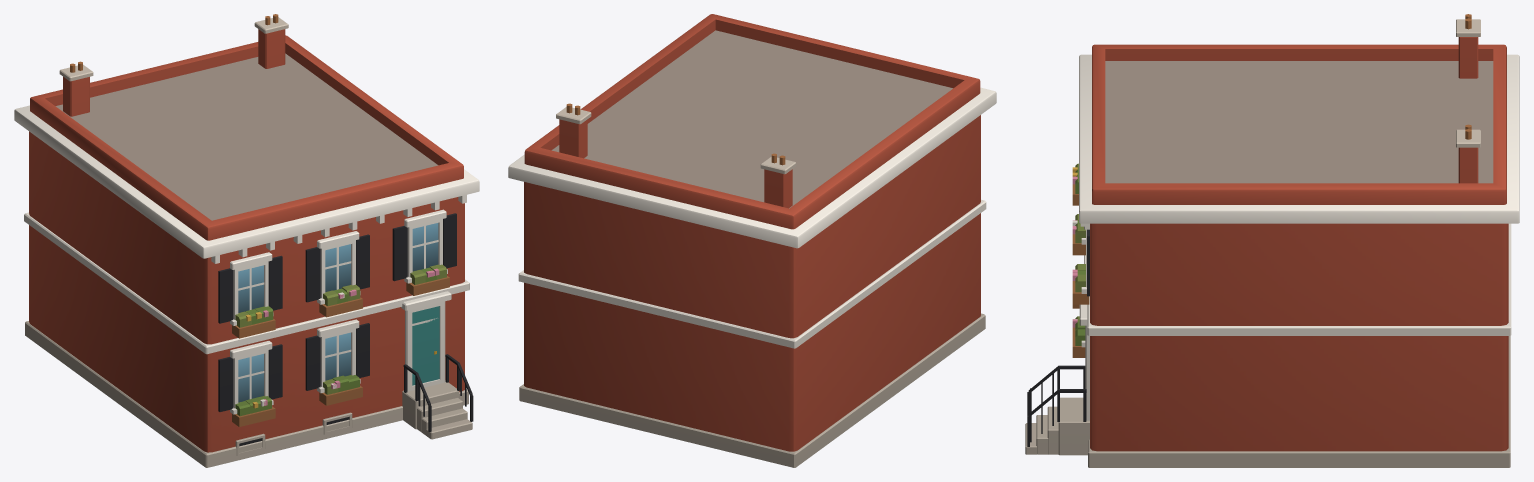
The model's file is beacon_ne1.glb.
3 renders of one model, left to right at view 1: azimuth 30°, elevation 25°; view 2: azimuth 150°, elevation 25°; view 3: azimuth 270°, elevation 25°, orthographic. The views are drawn at different scales.
Visible parts, largest first — view 1: beacon_ne1; view 2: beacon_ne1; view 3: beacon_ne1.
Part boxes in pixels (left/top/right/bottom): beacon_ne1: left=14, top=14, right=479, bottom=467; beacon_ne1: left=508, top=14, right=996, bottom=467; beacon_ne1: left=1025, top=14, right=1519, bottom=467.
Size of the model in its own units: 10.64 by 10.14 by 14.18.
1 material, 1 textured.
